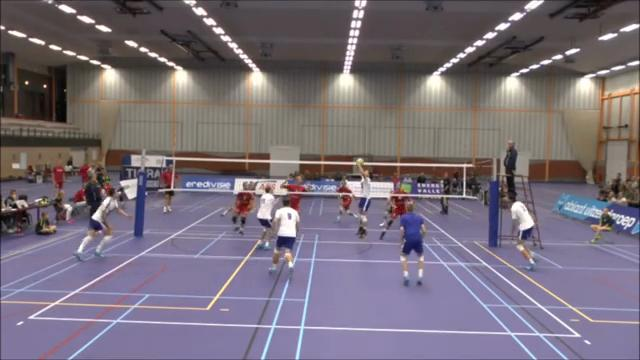Player: (74, 188, 130, 260), (269, 198, 299, 277), (400, 202, 425, 285), (508, 194, 535, 269), (380, 184, 409, 239), (257, 185, 275, 249), (232, 182, 253, 234), (335, 180, 357, 222), (281, 175, 306, 211), (379, 186, 394, 226)
Set: (350, 157, 376, 241)
ball: (355, 156, 364, 166)
